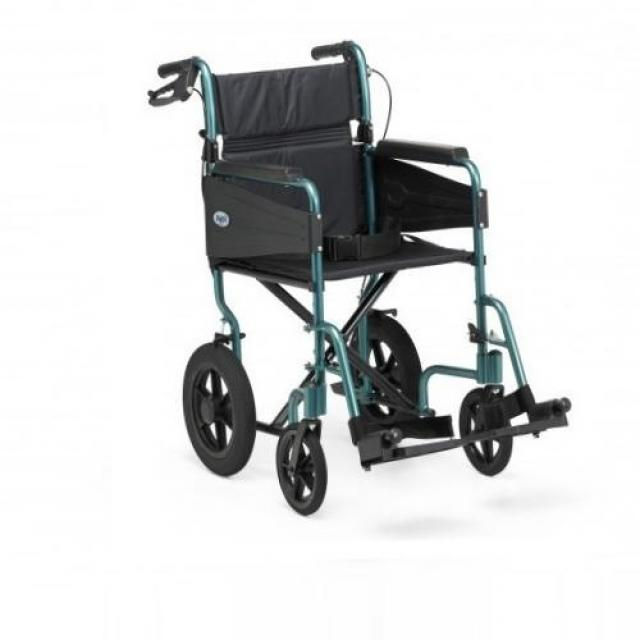wheelchair: (125, 23, 592, 526)
